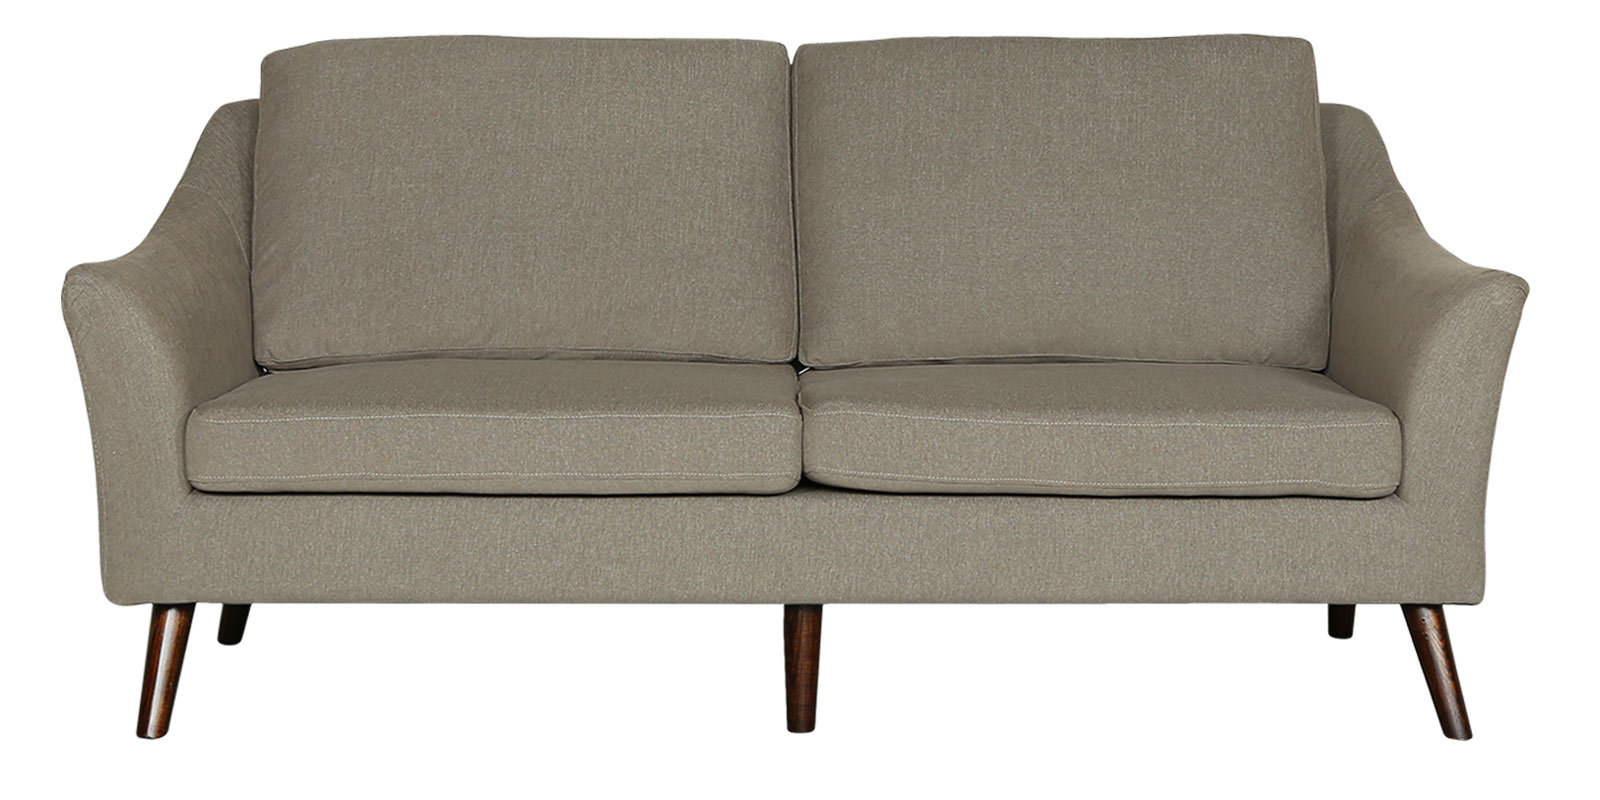Juan Three Seater Sofs in Sandy Brown Colour by CasaCraft: (59, 36, 1534, 741)
